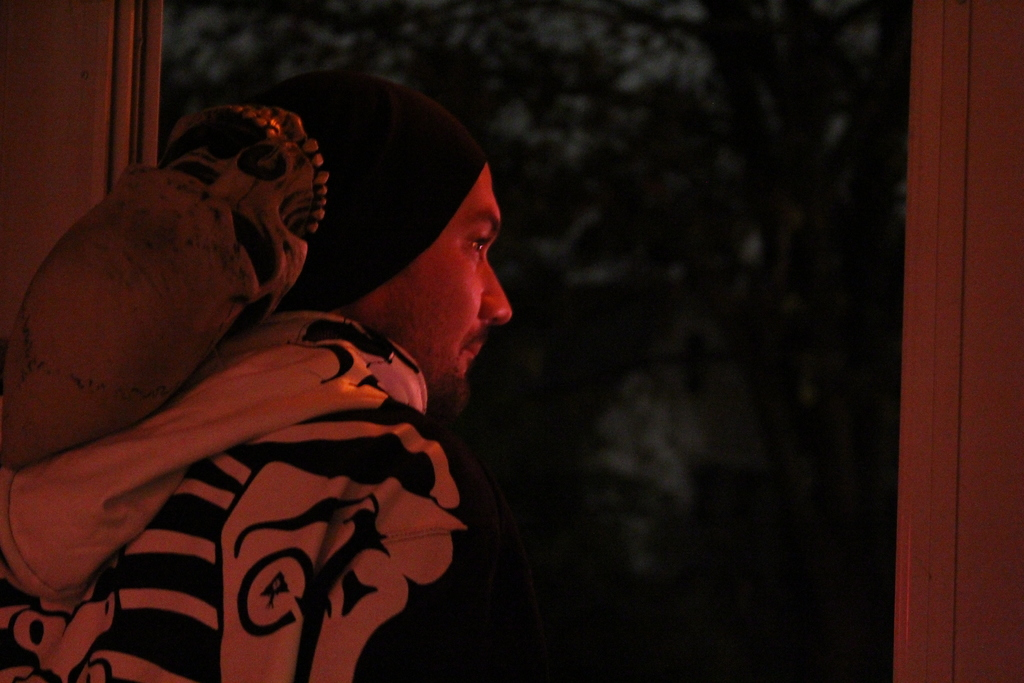Human-face: (380, 158, 511, 404)
